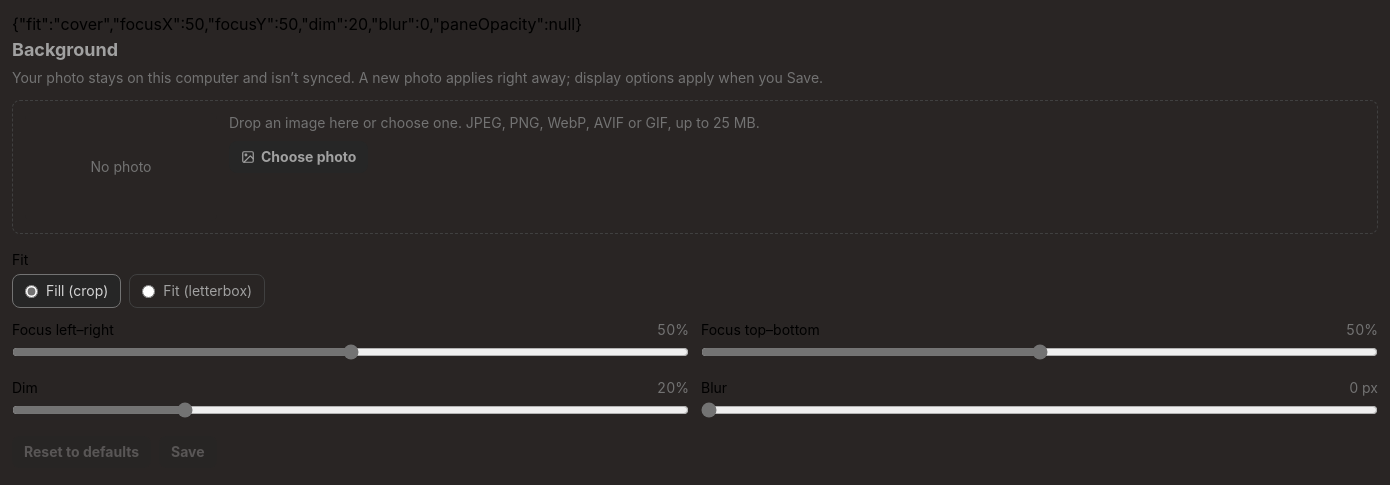
Test: BackgroundSettings › restores defaults as an unsaved edit
Expected: the button "Reset to defaults" is disabled, [12,436,151,468]
Set the slider labelled "Dim" to "70" at (598,410), box [12,402,689,418]
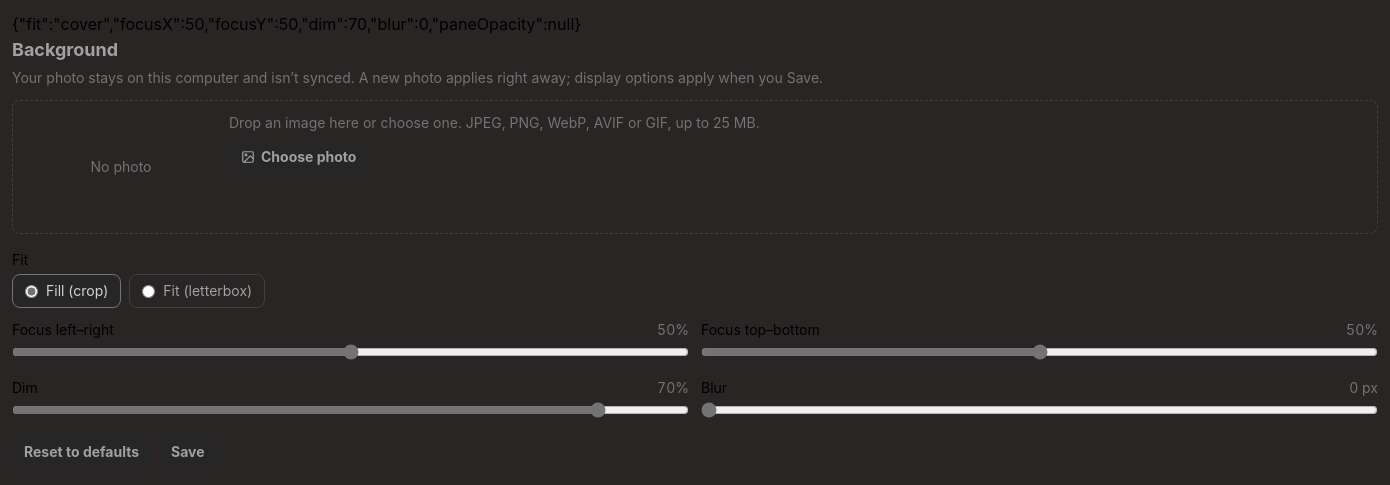
Click the button "Reset to defaults" at (82,452), box [12,436,151,468]
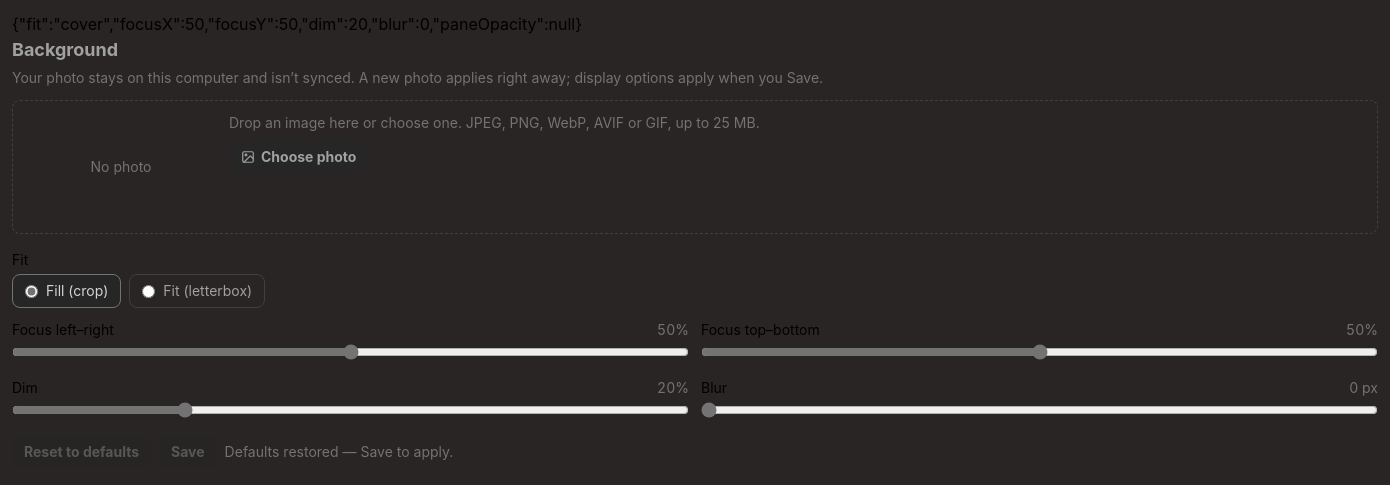
Expected: the slider labelled "Dim" holds "20", [12,402,689,418]
Expected: the text "Defaults restored — Save to apply." is shown, [225,442,453,462]
